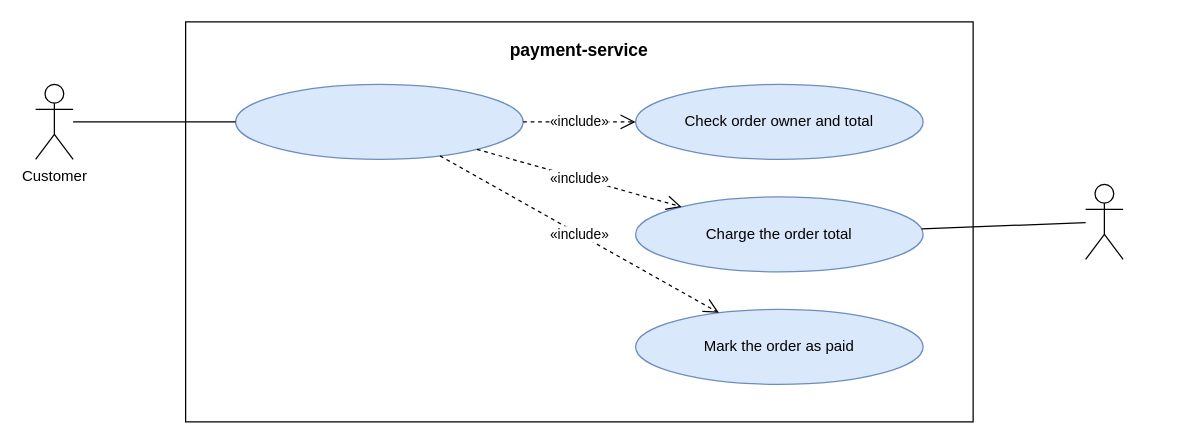
The diagram is 1185 pixels wide and 444 high, and some of its shapes have lost their labels. Each missing label, with the centre of its shape:
"Pay an order" belongs at point 378,121.
"Payment gateway" belongs at point 1103,221.
